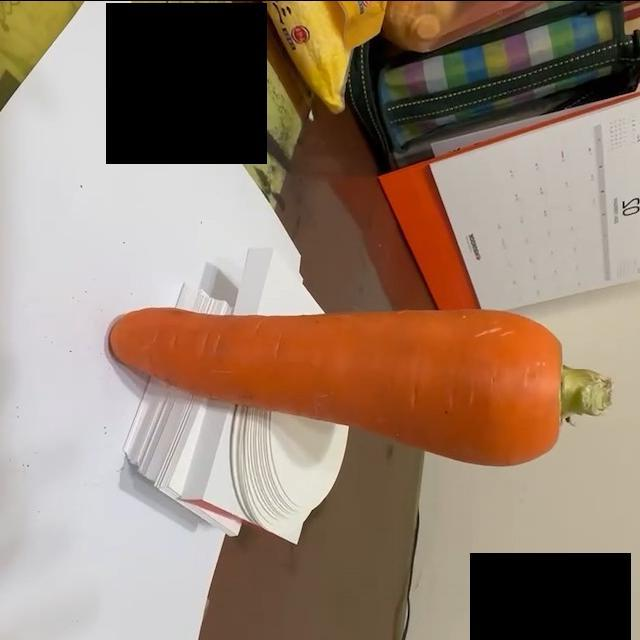carrot: (107, 307, 613, 469)
